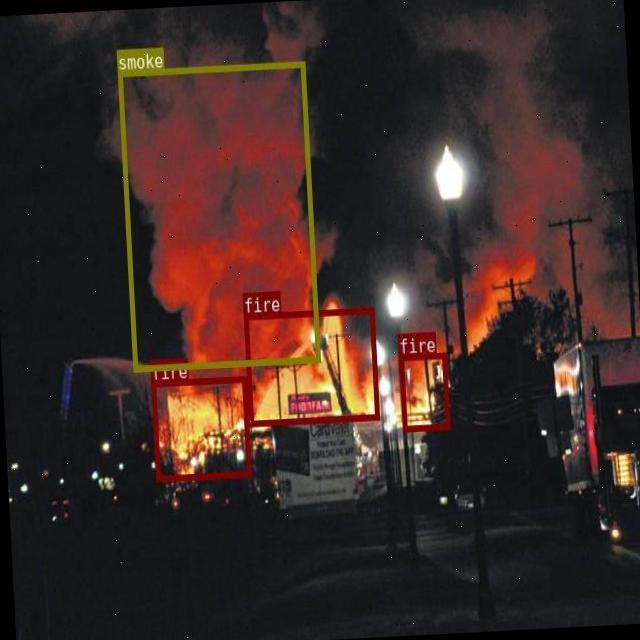fire: (244, 307, 378, 426), (150, 375, 251, 481), (398, 352, 449, 431)
smoke: (118, 61, 319, 370)
